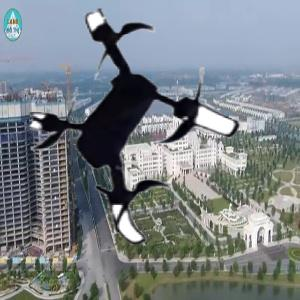drone: (18, 8, 260, 250)
